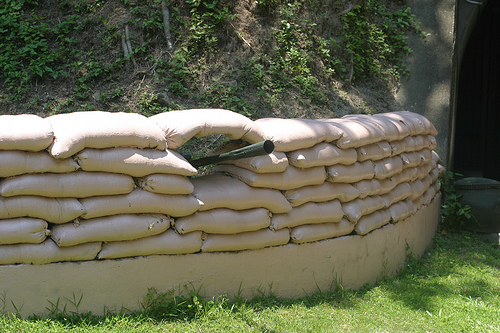rifle: (193, 134, 281, 179)
